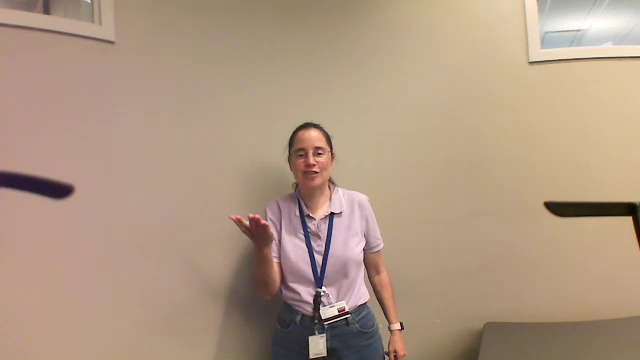land: (222, 204, 285, 254)
